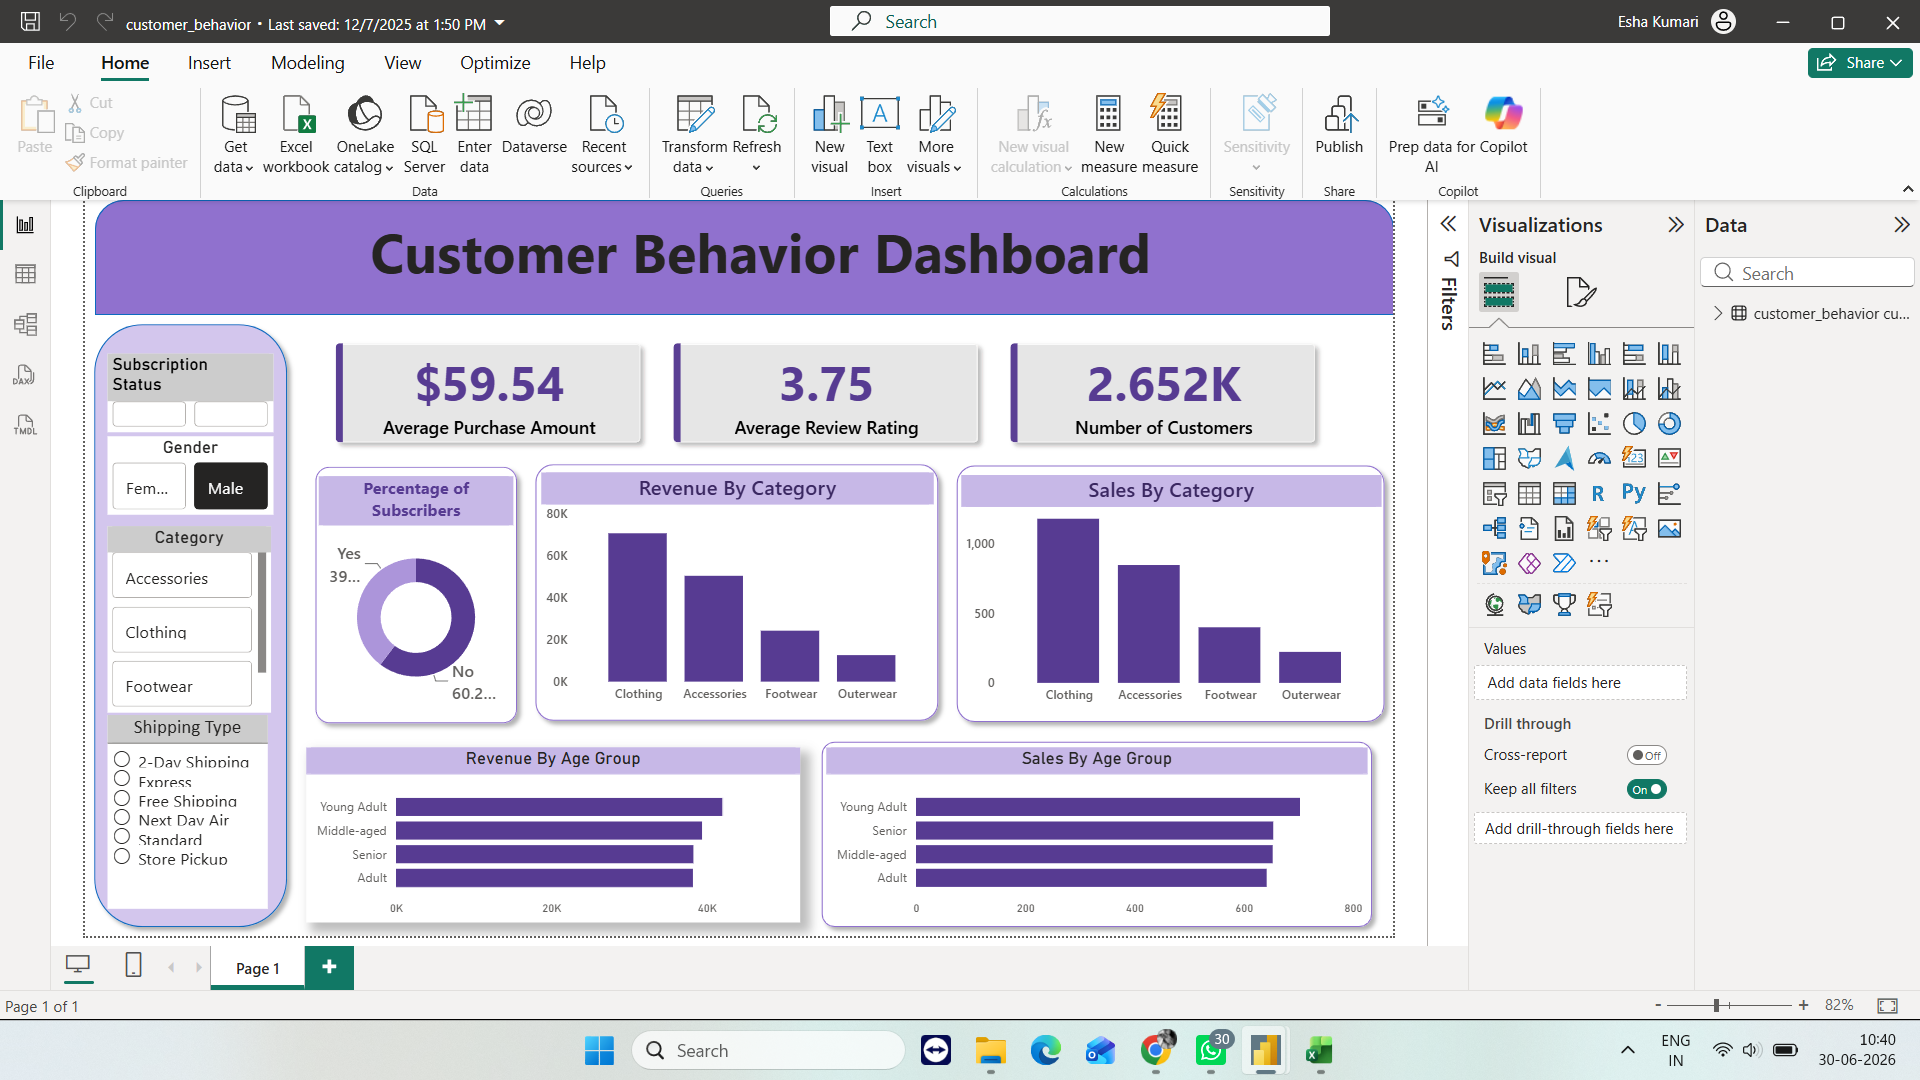

The page's visual inventory and layout, read from the dashboard file:
{"tool":"powerbi","page":{"name":"Page 1","canvas":[1280,720],"ordinal":0},"visuals":[{"type":"cardVisual","fields":{"Data":["customer_behavior customer.Average Purchase Amount","customer_behavior customer.Average Review Rating","customer_behavior customer.Number of Customers"]},"box":[216.4,111.3,1016.2,155.3],"z":0},{"type":"shape","box":[9.6,0,1270.7,112.5],"z":1000},{"type":"textbox","box":[41.2,8.2,1239.1,96.1],"z":2000},{"type":"shape","box":[216.4,251.9,215.2,269],"z":3000},{"type":"donutChart","title":"Percentage of Subscribers","fields":{"Category":["customer_behavior customer.subscription_status"],"Y":["CountNonNull(customer_behavior customer.customer_id)"]},"box":[228.7,270.2,190.8,233.6],"z":4000},{"type":"shape","box":[431.7,249.5,412.1,269],"z":5000},{"type":"shape","box":[843.8,250.7,436.6,269],"z":6000},{"type":"clusteredColumnChart","title":"Revenue By Category","fields":{"Y":["Sum(customer_behavior customer.purchase_amount)"],"Category":["customer_behavior customer.category"]},"box":[446.3,266.6,384,234.8],"z":7000},{"type":"clusteredColumnChart","title":"Sales By Category","fields":{"Category":["customer_behavior customer.category"],"Y":["CountNonNull(customer_behavior customer.customer_id)"]},"box":[857.2,269,410.9,233.6],"z":8000},{"type":"shape","box":[0,112.5,206.7,607.7],"z":9000},{"type":"advancedSlicerVisual","title":"Subscription Status","fields":{"Values":["customer_behavior customer.subscription_status"]},"box":[22,150.4,162.6,77],"z":10000},{"type":"advancedSlicerVisual","title":"Gender","fields":{"Values":["customer_behavior customer.gender"]},"box":[22,231.1,162.6,77],"z":11000},{"type":"advancedSlicerVisual","title":"Category","fields":{"Values":["customer_behavior customer.category"]},"box":[22,319.2,160.2,182.2],"z":12000},{"type":"listSlicer","title":"Shipping Type","fields":{"Values":["customer_behavior customer.shipping_type"]},"box":[22,503.8,156.5,189.5],"z":13000},{"type":"clusteredBarChart","title":"Revenue By Age Group","fields":{"Y":["Sum(customer_behavior customer.purchase_amount)"],"Category":["customer_behavior customer.age_group"]},"box":[216.4,535.6,483,171.2],"z":14000},{"type":"shape","box":[711.7,520.9,556.4,199.3],"z":15000},{"type":"clusteredBarChart","title":"Sales By Age Group","fields":{"Category":["customer_behavior customer.age_group"],"Y":["CountNonNull(customer_behavior customer.customer_id)"]},"box":[725.1,535.6,529.5,171.2],"z":15002}]}

Visuals, with their boxes on the page's 1280x720 design canvas (x1, y1, x2, y2). These are canvas units, not pixel positions in the 1920x1080 screenshot, which may show the page scaled, cropped or inside an application window:
cardVisual - customer_behavior customer.Average Purchase Amount x customer_behavior customer.Average Review Rating: [x1=216, y1=111, x2=1233, y2=267]
shape: [x1=10, y1=0, x2=1280, y2=112]
textbox: [x1=41, y1=8, x2=1280, y2=104]
shape: [x1=216, y1=252, x2=432, y2=521]
"Percentage of Subscribers" donutChart: [x1=229, y1=270, x2=420, y2=504]
shape: [x1=432, y1=250, x2=844, y2=518]
shape: [x1=844, y1=251, x2=1280, y2=520]
"Revenue By Category" clusteredColumnChart: [x1=446, y1=267, x2=830, y2=501]
"Sales By Category" clusteredColumnChart: [x1=857, y1=269, x2=1268, y2=503]
shape: [x1=0, y1=112, x2=207, y2=720]
"Subscription Status" advancedSlicerVisual: [x1=22, y1=150, x2=185, y2=227]
"Gender" advancedSlicerVisual: [x1=22, y1=231, x2=185, y2=308]
"Category" advancedSlicerVisual: [x1=22, y1=319, x2=182, y2=501]
"Shipping Type" listSlicer: [x1=22, y1=504, x2=178, y2=693]
"Revenue By Age Group" clusteredBarChart: [x1=216, y1=536, x2=699, y2=707]
shape: [x1=712, y1=521, x2=1268, y2=720]
"Sales By Age Group" clusteredBarChart: [x1=725, y1=536, x2=1255, y2=707]
